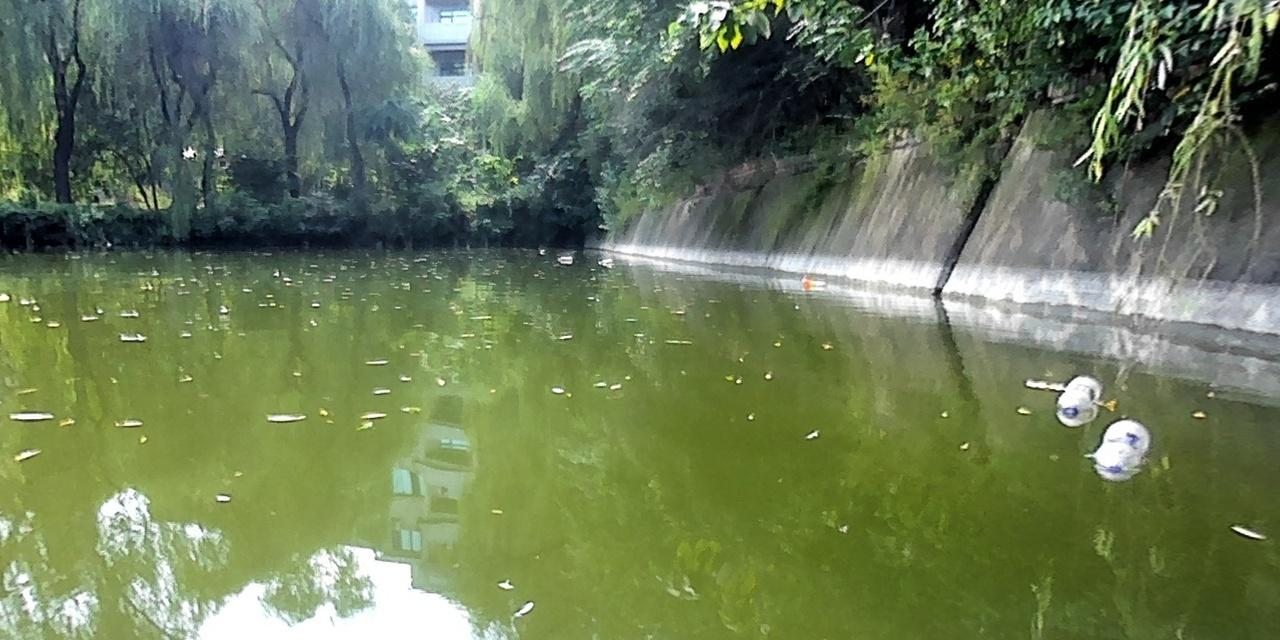bottle: (1089, 416, 1156, 479), (1051, 370, 1104, 420), (798, 273, 828, 289), (594, 256, 617, 267), (554, 252, 574, 262)
